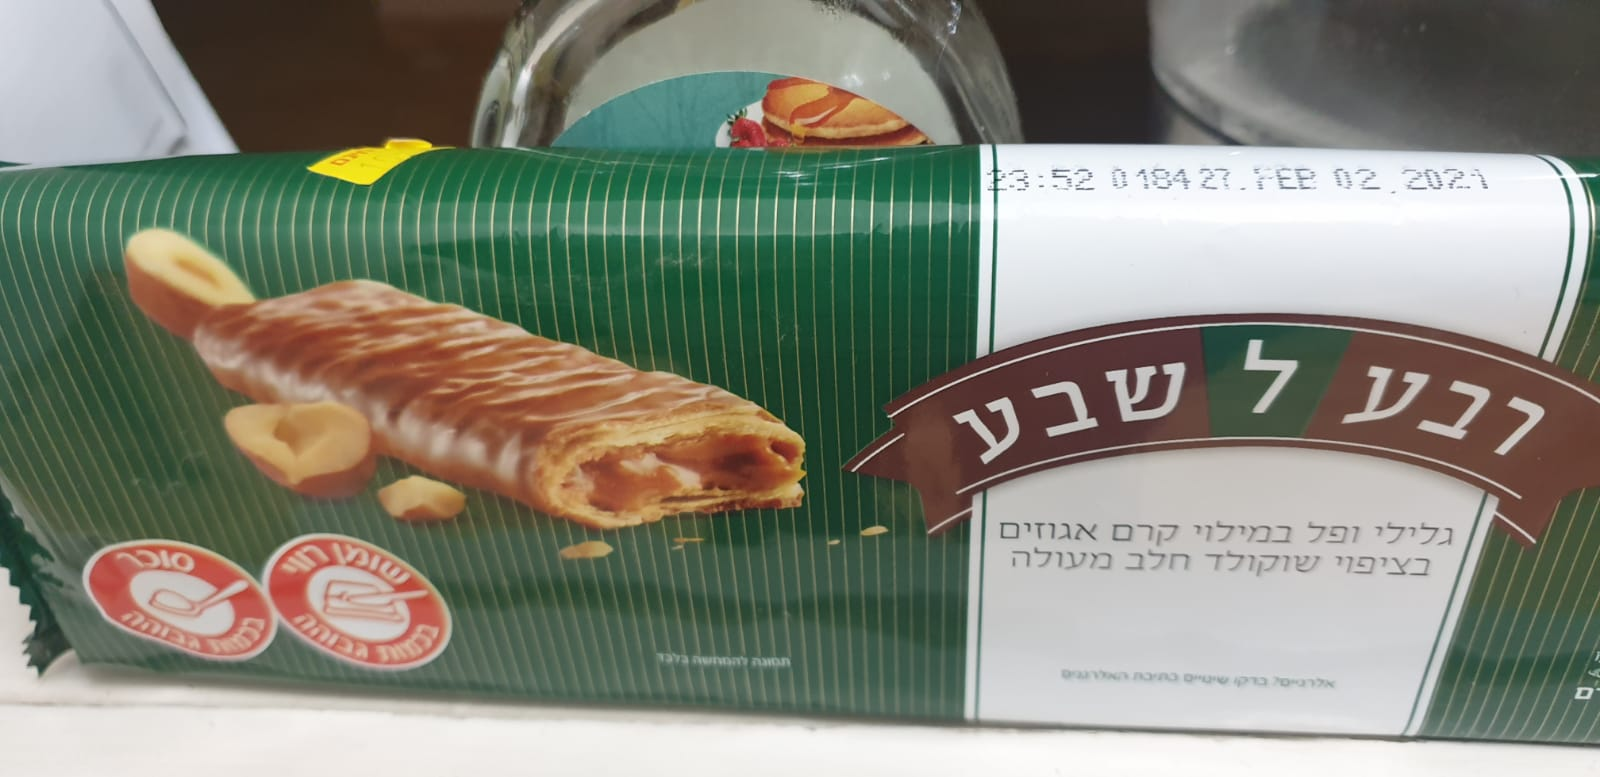fat: (263, 534, 457, 674)
sugar: (82, 538, 276, 662)
